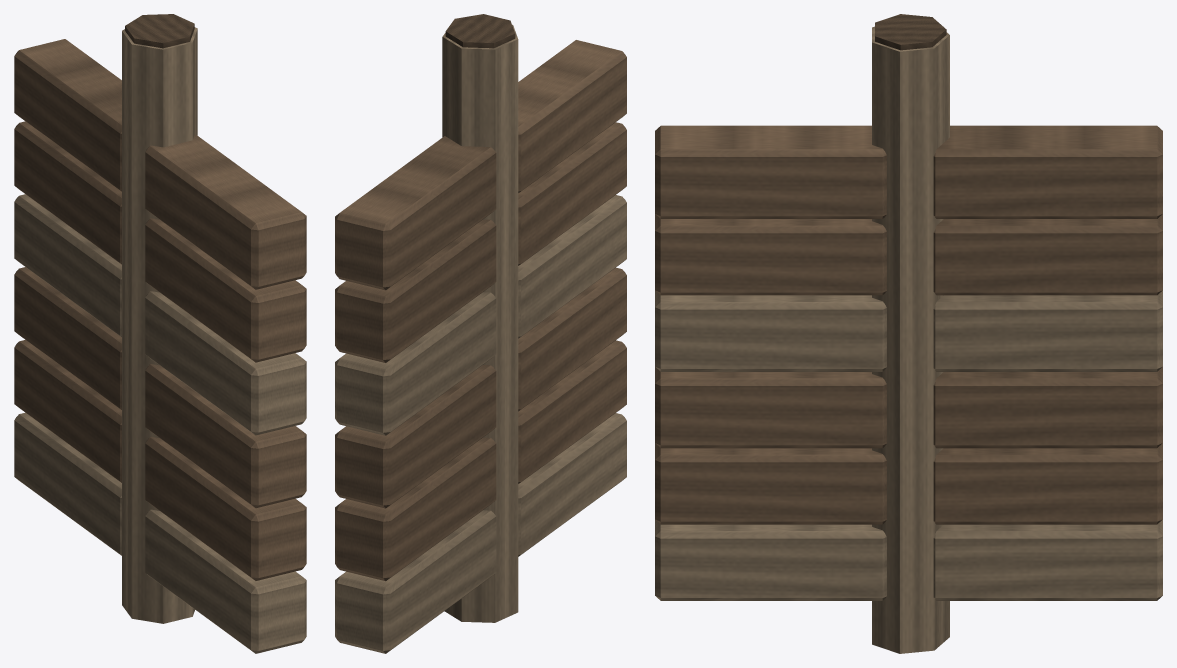
Rendered from wall_straight.glb.
The picture shows the model from 3 angles, left to right: view 1: azimuth 30°, elevation 25°; view 2: azimuth 150°, elevation 25°; view 3: azimuth 270°, elevation 25°; orthographic projection. The views are drawn at different scales.
Parts seen in each view (by area): view 1: Weathered timber, Timber worn edges, Dark endgrain; view 2: Weathered timber, Timber worn edges, Dark endgrain; view 3: Weathered timber, Timber worn edges, Dark endgrain.
Boxes of the visible parts, x1,y1,x2,y2 form: Weathered timber: [14, 39, 306, 580]; Timber worn edges: [14, 27, 306, 653]; Dark endgrain: [125, 14, 194, 48]; Weathered timber: [335, 40, 626, 581]; Timber worn edges: [335, 24, 626, 653]; Dark endgrain: [445, 14, 515, 48]; Weathered timber: [655, 125, 1162, 524]; Timber worn edges: [655, 26, 1162, 653]; Dark endgrain: [875, 14, 946, 50].
Bounding box in the file's own units: 0.1657 × 1.39 × 1.06.
3 materials, 3 textured.
